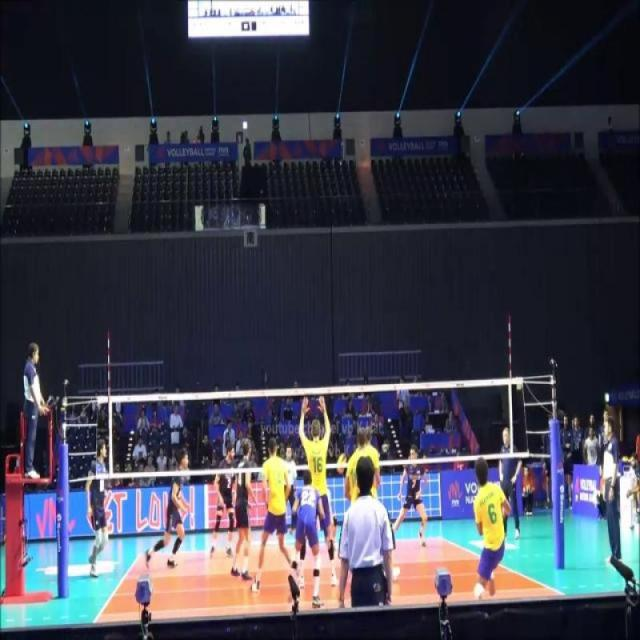volleyball: (337, 452, 347, 475), (523, 484, 532, 496)
